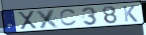3: (81, 6, 99, 27)
8: (102, 5, 119, 24)
C: (59, 8, 78, 28)
K: (122, 4, 139, 23)
X: (35, 9, 62, 29), (17, 10, 39, 31)
